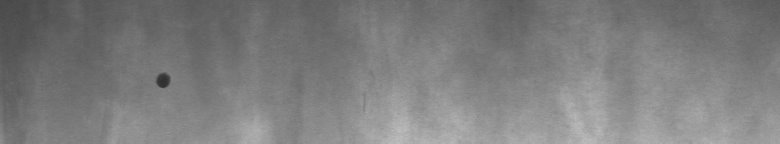fi: (149, 64, 176, 96)
